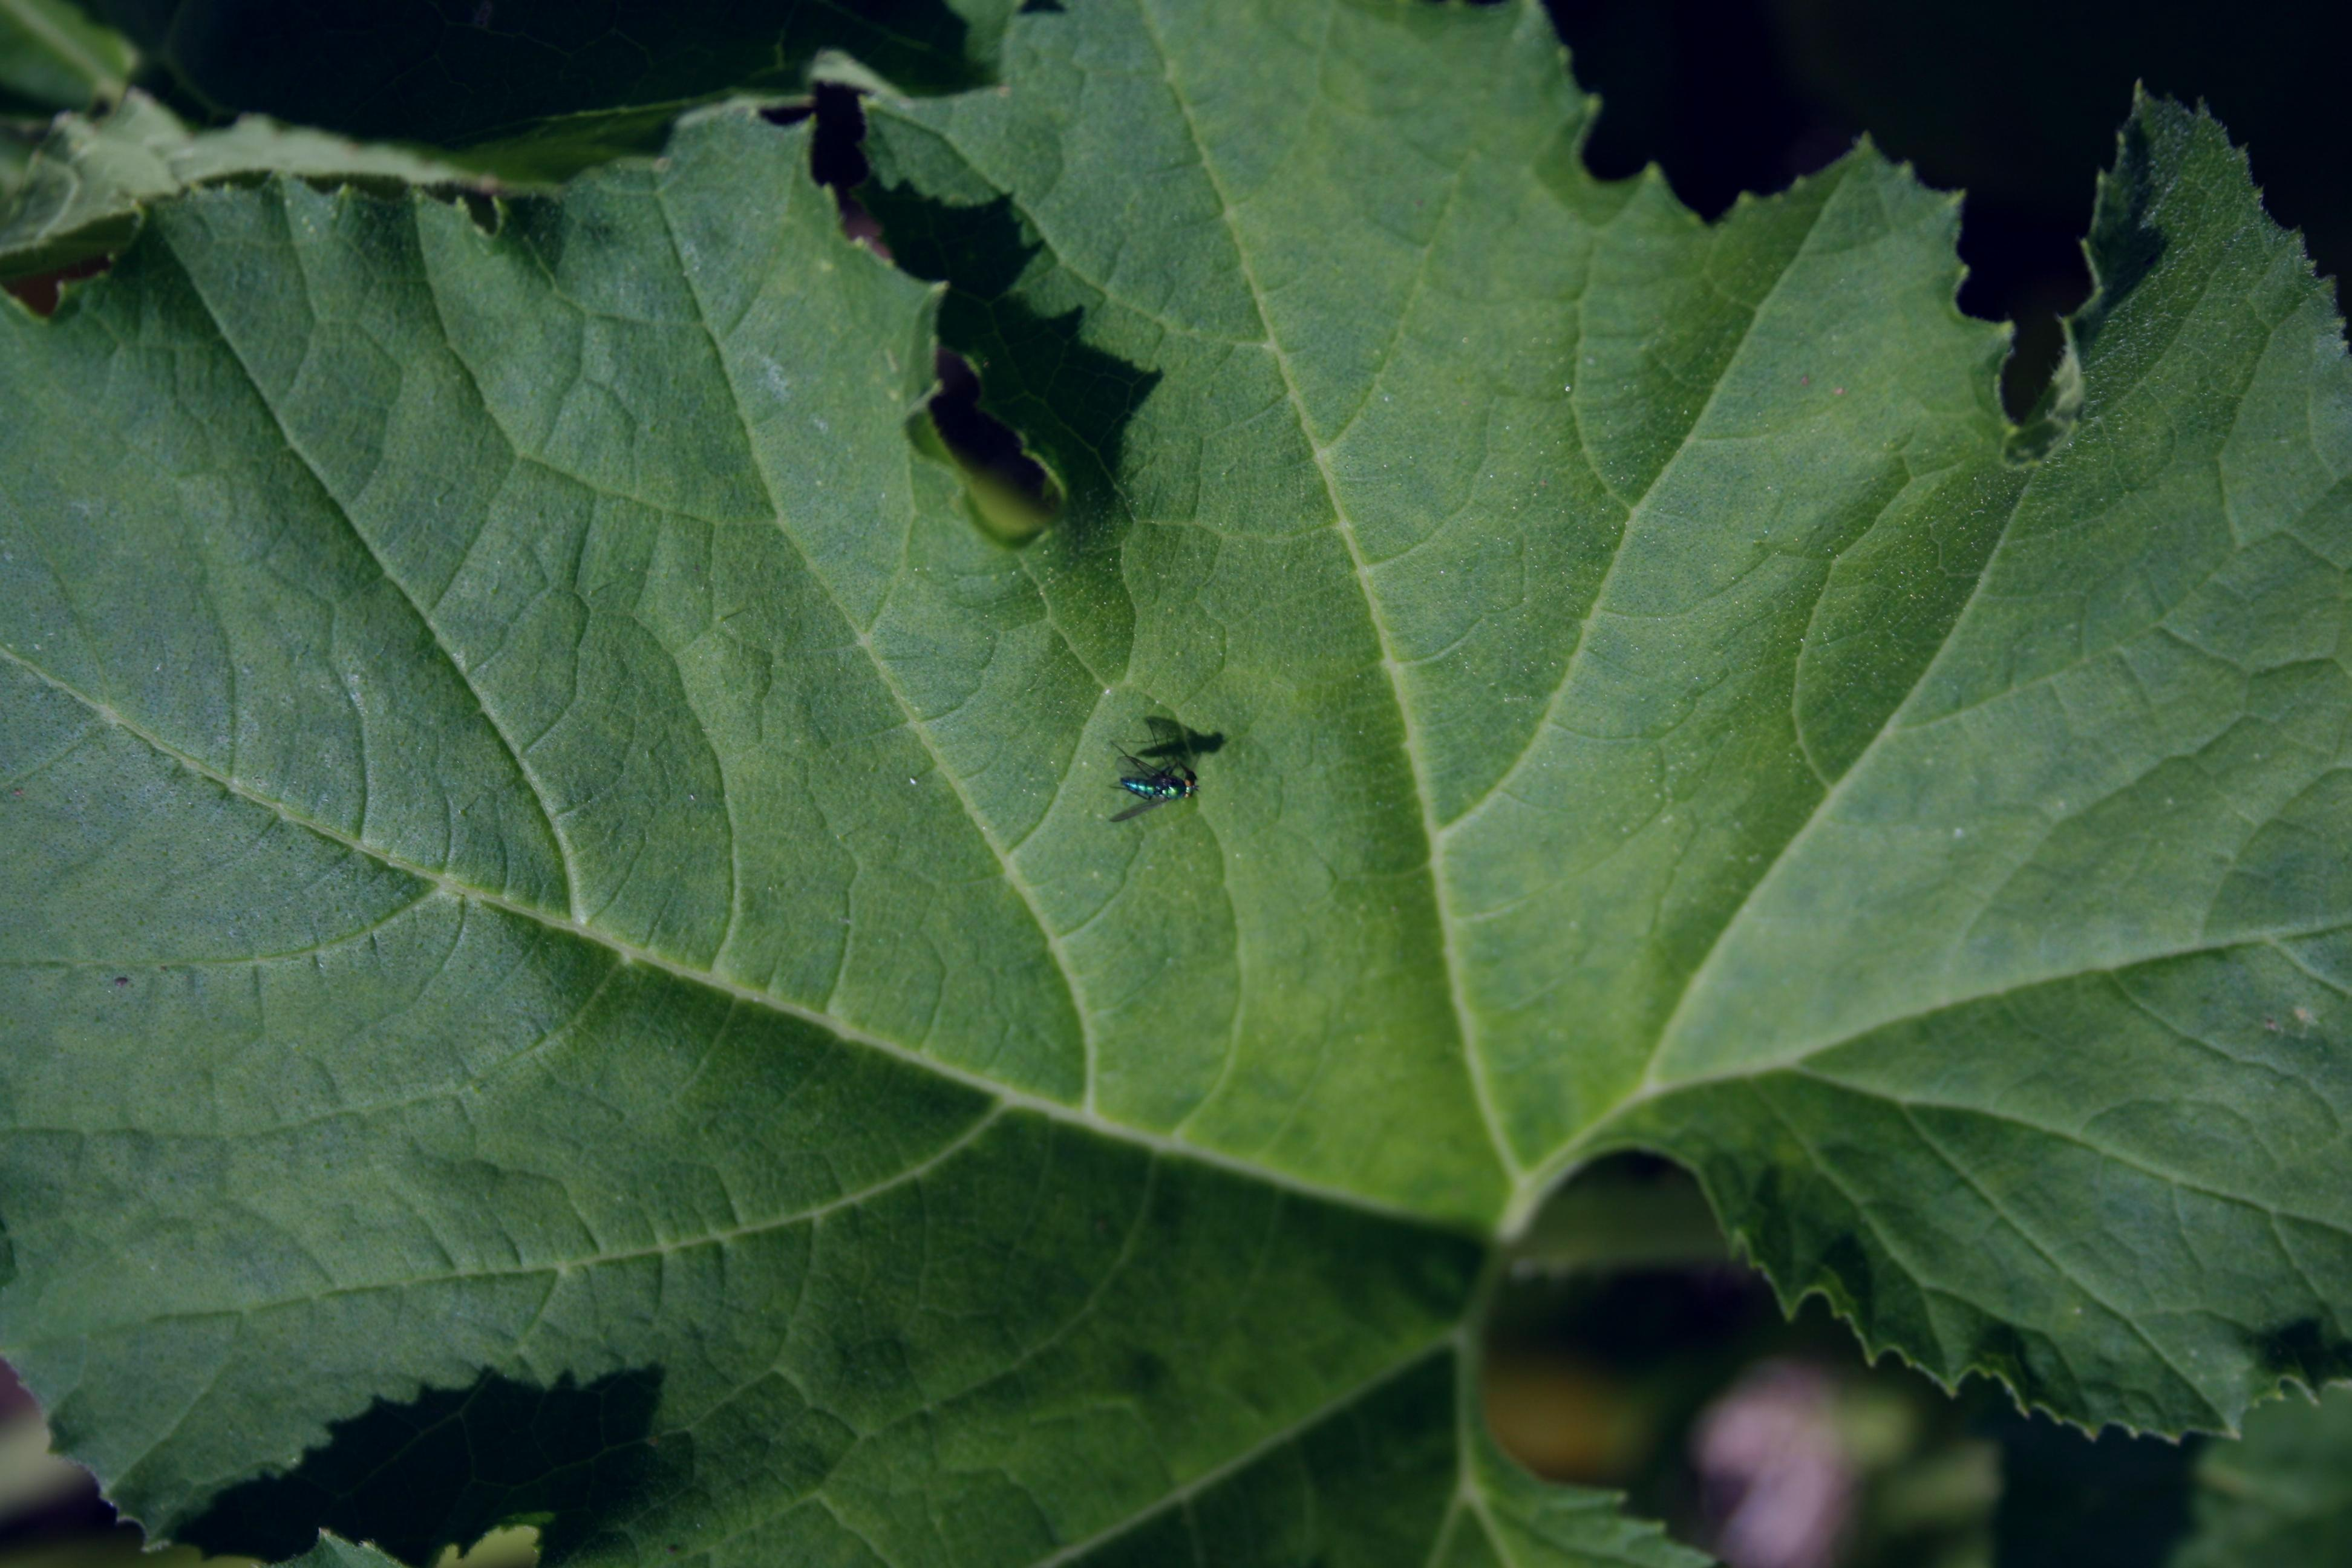Tomato leaf: (0, 98, 2303, 1515)
